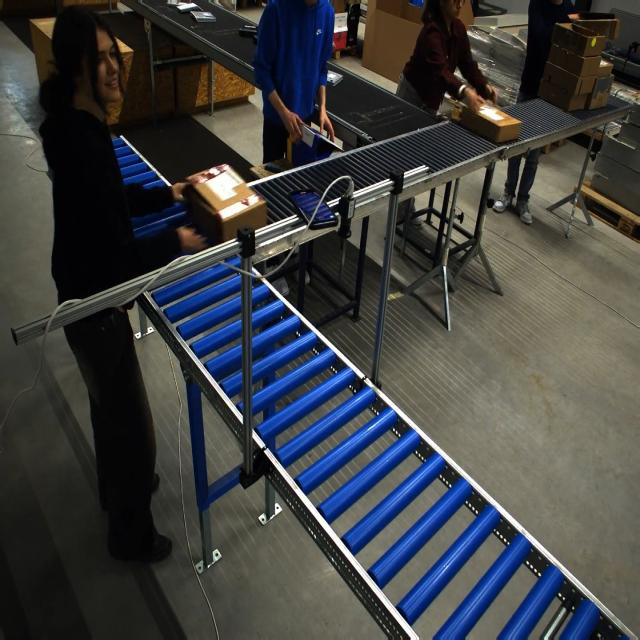box: (183, 165, 264, 245), (458, 99, 523, 144)
product: (238, 24, 258, 40), (190, 10, 216, 22), (326, 71, 343, 87), (176, 2, 200, 13), (264, 162, 282, 173), (243, 23, 257, 30), (167, 0, 180, 6)
